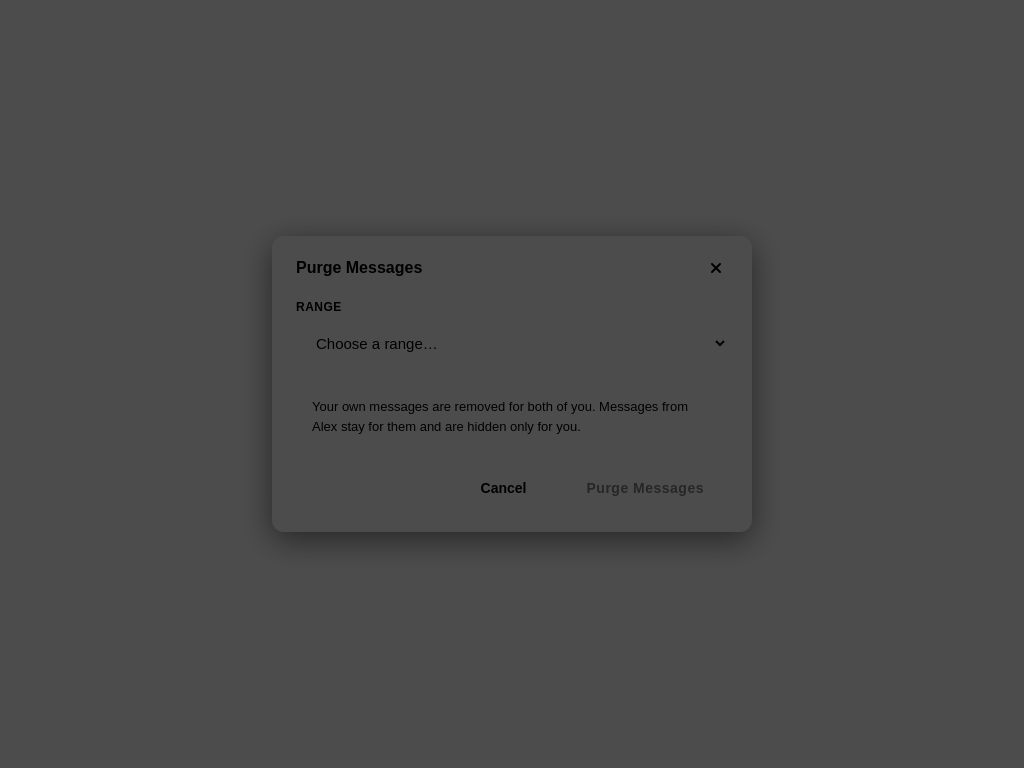
it: PurgeMessagesModal — step-up gate › fails closed to the step-up stage when the preference is unknown
Step 1. Select "Last 7 days" in the dropdown labelled "Range" → (512, 344), box [296, 322, 728, 365]
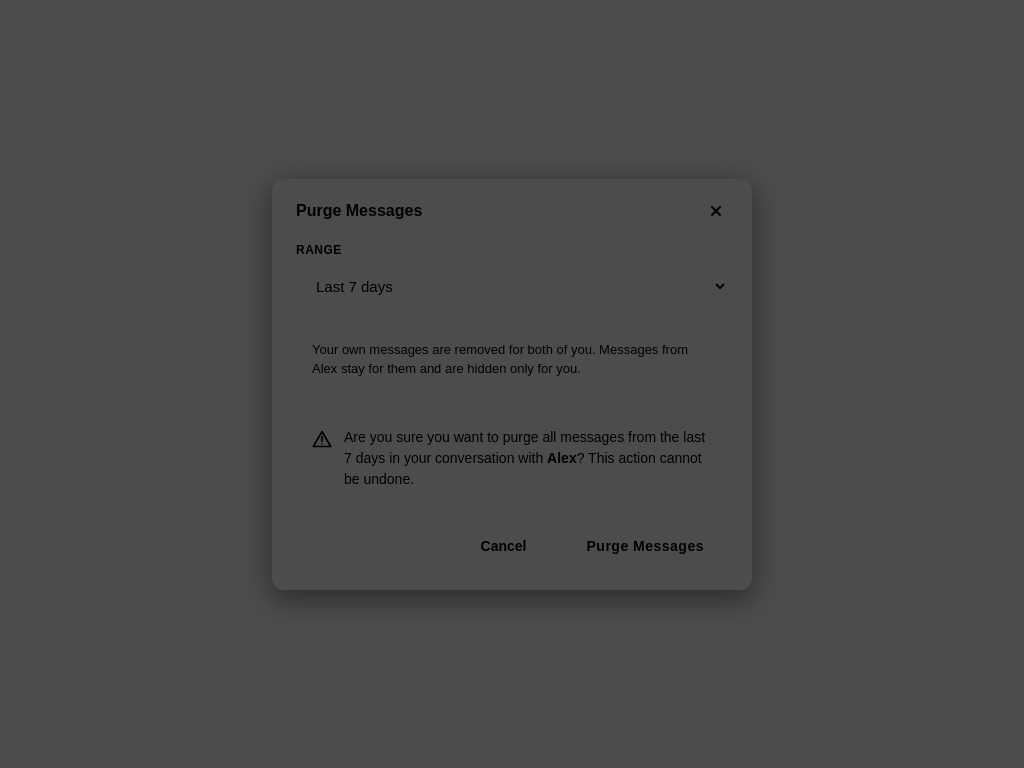
Step 2. Click the button "Purge Messages" → (645, 546), box [562, 526, 728, 566]
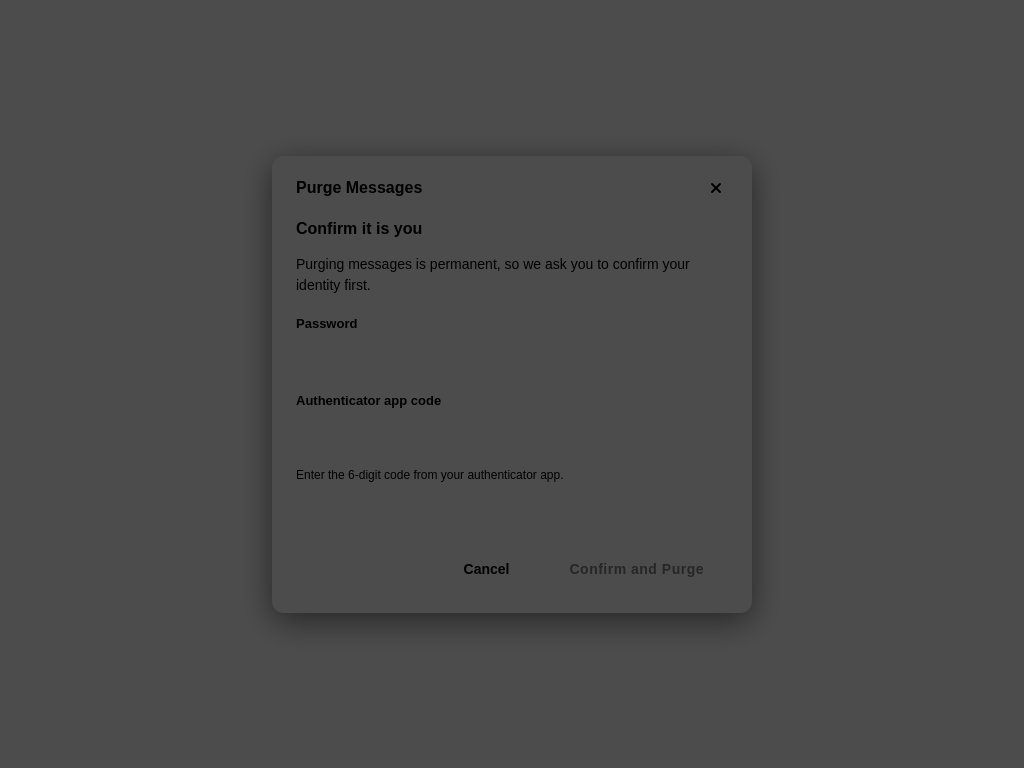
Expected: the heading "Confirm it is you" is shown, [296, 220, 422, 236]
